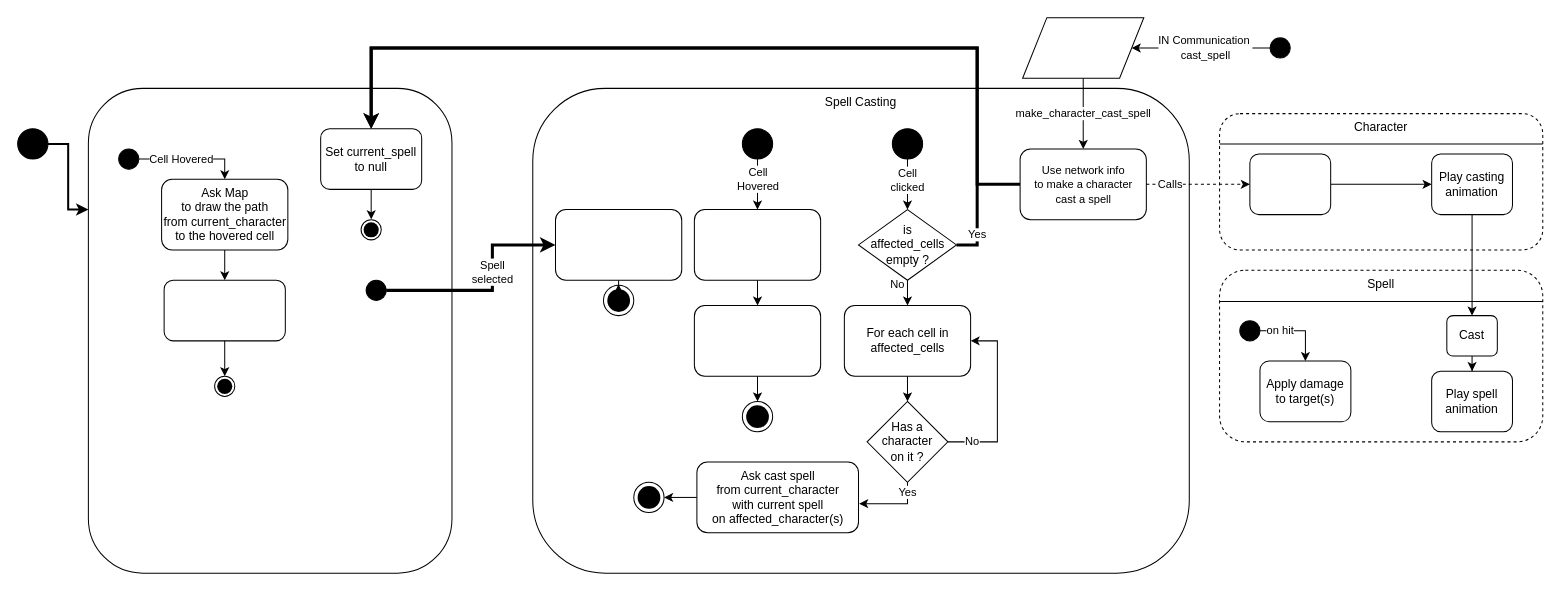
Some shapes in this 1560 by 591 pixel diagram are drawn without their labels. Each missing label, with the box of its shape:
Ask current_spell to draw affected cells from the hovered cell: (693, 209, 821, 280)
BattleNetwork: (1022, 17, 1144, 78)
Cast a spell on a cell: (1249, 153, 1331, 215)
Normal: (87, 87, 452, 573)
Save affected_cells: (693, 305, 821, 376)
Save drawn path: (163, 279, 285, 341)
Save selected spell in current_spell: (554, 209, 682, 280)
